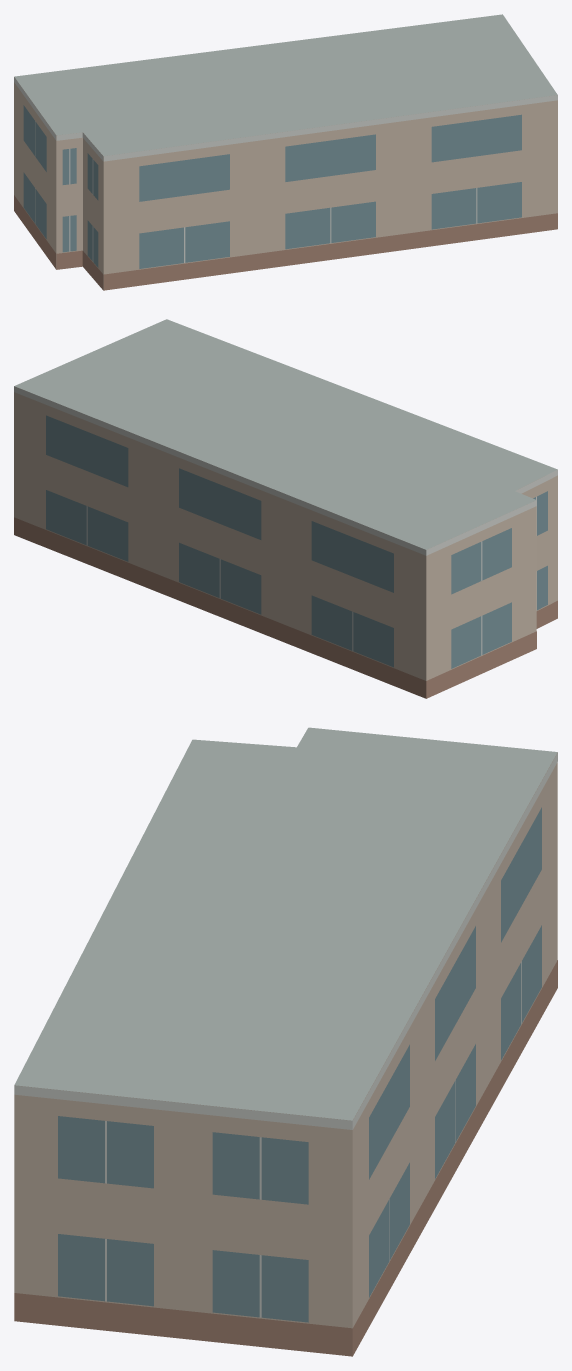
File: survey-upis-32532290.glb
3 renders of one model, top to bottom at view 1: azimuth 30°, elevation 25°; view 2: azimuth 150°, elevation 25°; view 3: azimuth 270°, elevation 25°, orthographic. The views are drawn at different scales.
Parts seen in each view (by area): view 1: survey-upis-32532290.tmp; view 2: survey-upis-32532290.tmp; view 3: survey-upis-32532290.tmp.
Part boxes in pixels (x1,y1,x2,y2): survey-upis-32532290.tmp: [14, 14, 557, 290]; survey-upis-32532290.tmp: [14, 319, 557, 698]; survey-upis-32532290.tmp: [14, 727, 557, 1356].
Size of the model in its own units: 21.83 by 6.1 by 12.75.
